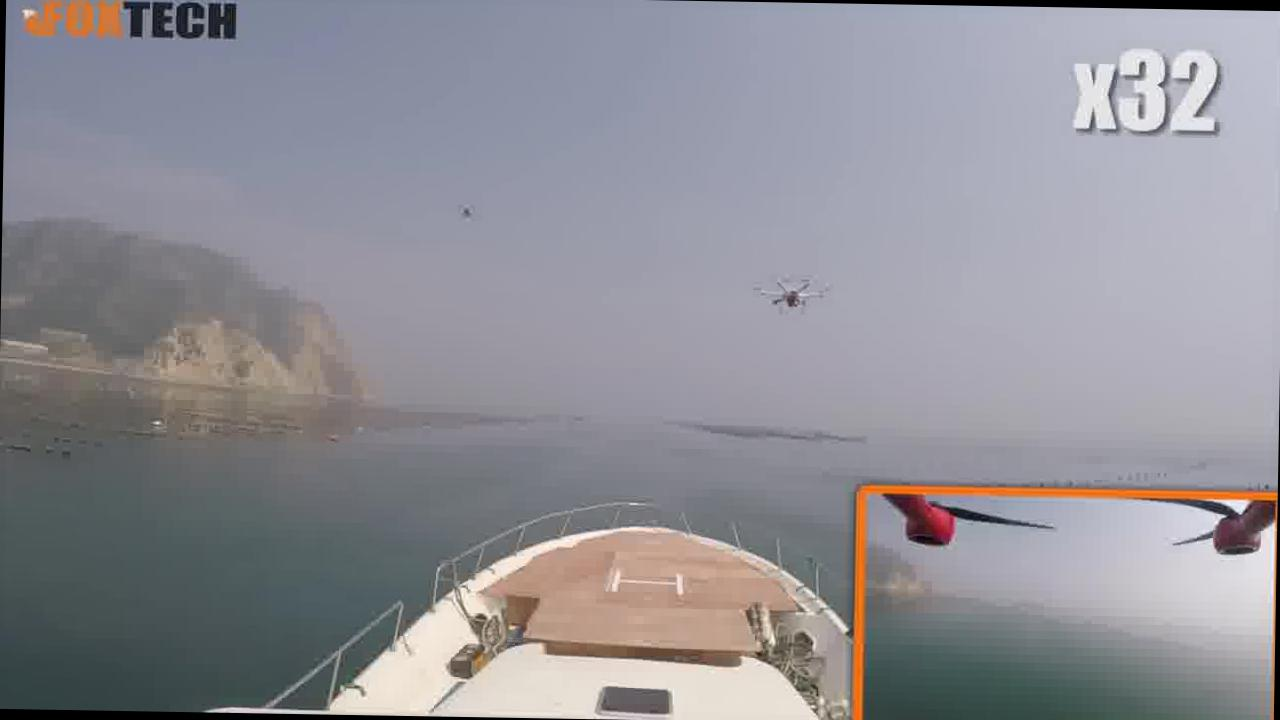drone: (736, 258, 852, 342)
